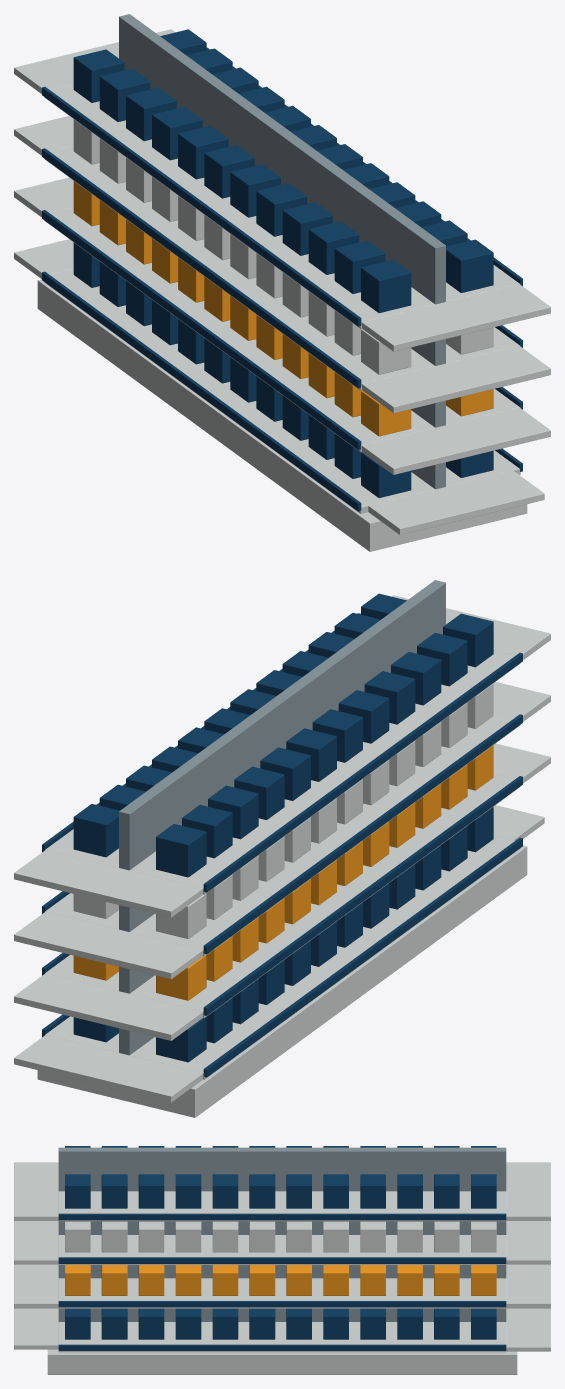
Rendered from edited.glb.
The picture shows the model from 3 angles, top to bottom: view 1: azimuth 30°, elevation 25°; view 2: azimuth 150°, elevation 25°; view 3: azimuth 270°, elevation 25°; orthographic projection. The views are drawn at different scales.
Parts seen in each view (by area): view 1: STOCK_CartonRow.003, GONDOLA_CentralPanel, GONDOLA_Plinth, STOCK_CartonRow, STOCK_CartonRow.002, STOCK_CartonRow.001, STOCK_CartonRow.007, SHELF_Deck, SHELF_Deck.001, SHELF_Deck.003, SHELF_Deck.002, ENDCAP_Shelf.001 (+18 smaller); view 2: STOCK_CartonRow.003, GONDOLA_CentralPanel, GONDOLA_Plinth, STOCK_CartonRow.001, STOCK_CartonRow.002, STOCK_CartonRow, STOCK_CartonRow.007, SHELF_Deck.002, SHELF_Deck, SHELF_Deck.001, SHELF_Deck.003, ENDCAP_Shelf.005 (+18 smaller); view 3: GONDOLA_CentralPanel, STOCK_CartonRow.007, GONDOLA_Plinth, STOCK_CartonRow.004, STOCK_CartonRow.006, STOCK_CartonRow.005, SHELF_Deck.004, SHELF_Deck.007, SHELF_Deck.005, SHELF_Deck.006, PRICE_Rail.007, PRICE_Rail.006 (+11 smaller).
Part boxes in pixels (left/top/right/bottom): STOCK_CartonRow.003: left=73, top=49, right=411, bottom=312; GONDOLA_CentralPanel: left=119, top=14, right=445, bottom=489; GONDOLA_Plinth: left=37, top=279, right=527, bottom=551; STOCK_CartonRow: left=73, top=242, right=411, bottom=497; STOCK_CartonRow.002: left=73, top=119, right=411, bottom=374; STOCK_CartonRow.001: left=73, top=181, right=411, bottom=436; STOCK_CartonRow.007: left=160, top=29, right=493, bottom=292; SHELF_Deck: left=44, top=269, right=434, bottom=513; SHELF_Deck.001: left=44, top=207, right=434, bottom=452; SHELF_Deck.003: left=44, top=84, right=434, bottom=328; SHELF_Deck.002: left=44, top=145, right=434, bottom=390; ENDCAP_Shelf.001: left=362, top=407, right=550, bottom=474; STOCK_CartonRow.003: left=156, top=613, right=493, bottom=877; GONDOLA_CentralPanel: left=119, top=580, right=445, bottom=1055; GONDOLA_Plinth: left=37, top=845, right=527, bottom=1117; STOCK_CartonRow.001: left=156, top=745, right=493, bottom=1000; STOCK_CartonRow.002: left=156, top=683, right=493, bottom=938; STOCK_CartonRow: left=156, top=807, right=493, bottom=1062; STOCK_CartonRow.007: left=73, top=593, right=406, bottom=857; SHELF_Deck.002: left=130, top=712, right=520, bottom=956; SHELF_Deck: left=130, top=835, right=520, bottom=1079; SHELF_Deck.001: left=130, top=774, right=520, bottom=1018; SHELF_Deck.003: left=130, top=650, right=520, bottom=894; ENDCAP_Shelf.005: left=14, top=973, right=202, bottom=1040; GONDOLA_CentralPanel: left=58, top=1147, right=506, bottom=1321; STOCK_CartonRow.007: left=65, top=1174, right=496, bottom=1208; GONDOLA_Plinth: left=47, top=1349, right=517, bottom=1374; STOCK_CartonRow.004: left=65, top=1308, right=496, bottom=1339; STOCK_CartonRow.006: left=65, top=1221, right=496, bottom=1252; STOCK_CartonRow.005: left=65, top=1265, right=496, bottom=1295; SHELF_Deck.004: left=58, top=1322, right=506, bottom=1352; SHELF_Deck.007: left=58, top=1191, right=506, bottom=1221; SHELF_Deck.005: left=58, top=1278, right=506, bottom=1308; SHELF_Deck.006: left=58, top=1235, right=506, bottom=1264; PRICE_Rail.007: left=58, top=1213, right=506, bottom=1220; PRICE_Rail.006: left=58, top=1257, right=506, bottom=1263.
Size of the model in its own units: 1.2 by 1.95 by 4.8.
